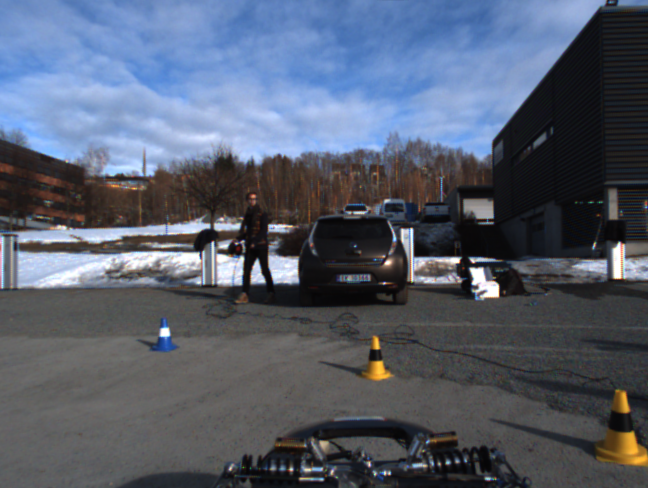cone-small-blue: (151, 318, 178, 352)
cone-small-yellow: (593, 388, 648, 464), (358, 334, 394, 381)
